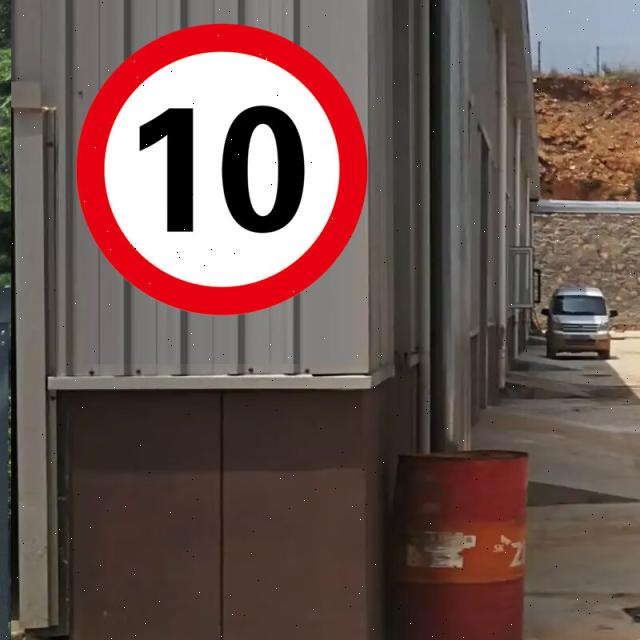speed limit 10: (77, 24, 368, 315)
